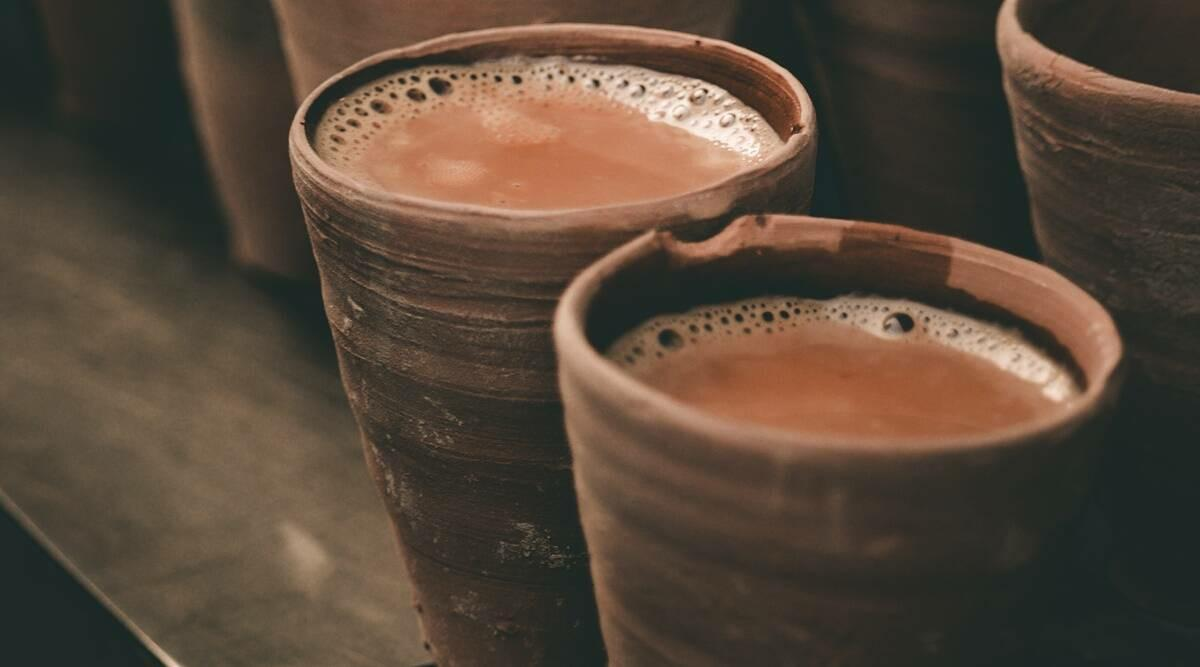Chai: (319, 55, 781, 218), (611, 295, 1088, 441)
